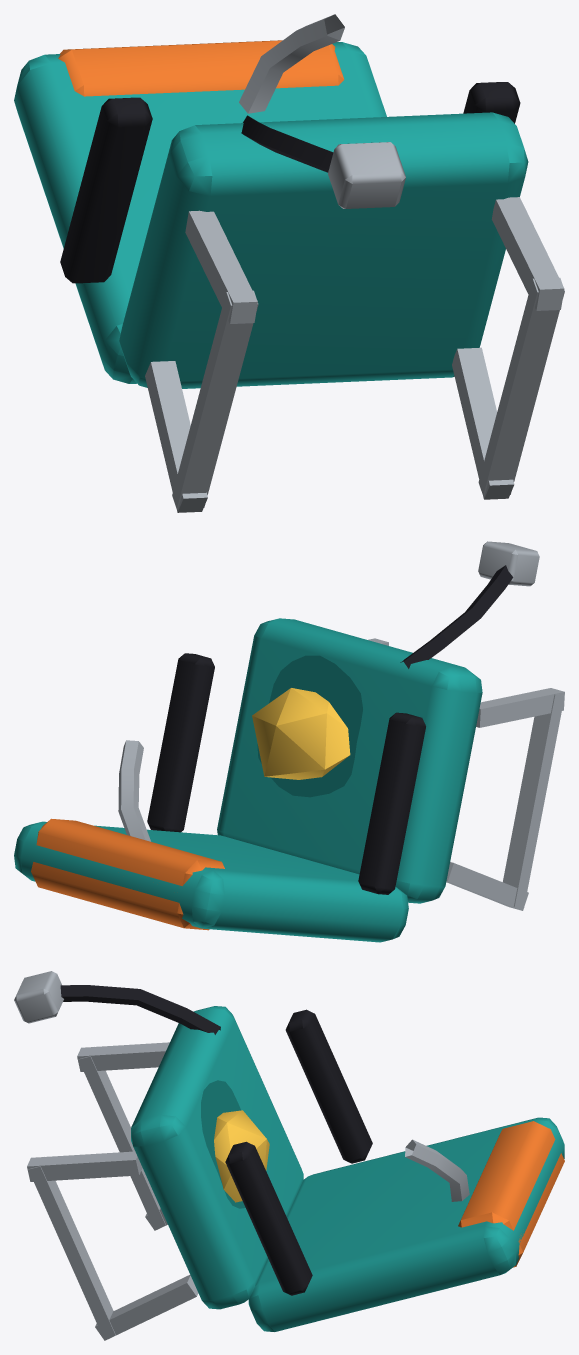
File: AsientoRoto.fbx
The picture shows the model from 3 angles, top to bottom: view 1: azimuth 30°, elevation 25°; view 2: azimuth 150°, elevation 25°; view 3: azimuth 270°, elevation 25°; orthographic projection. The views are drawn at different scales.
Parts seen in each view (by area): view 1: AsientoRoto; view 2: AsientoRoto; view 3: AsientoRoto.
Boxes of the visible parts, x1,y1,x2,y2 form: AsientoRoto: (14,14,564,512); AsientoRoto: (14,541,564,942); AsientoRoto: (14,971,564,1340).
Bounding box in the file's own units: 3.09 × 2.97 × 4.93.
1 material, 1 textured.
